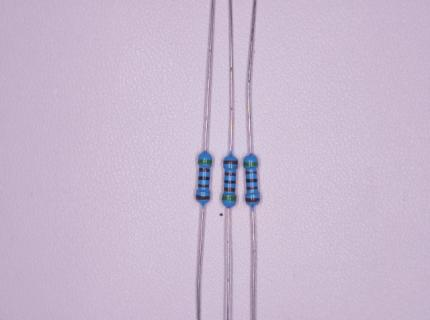Black band: (198, 176, 210, 181), (224, 180, 236, 184), (246, 179, 258, 183)
Brown band: (195, 195, 209, 200), (246, 198, 260, 203), (224, 161, 238, 165), (224, 187, 235, 192), (224, 172, 236, 176), (246, 186, 258, 190), (198, 184, 209, 188), (199, 168, 209, 172), (246, 171, 257, 174)
Green band: (222, 195, 236, 201), (198, 160, 212, 164), (244, 162, 258, 166)
